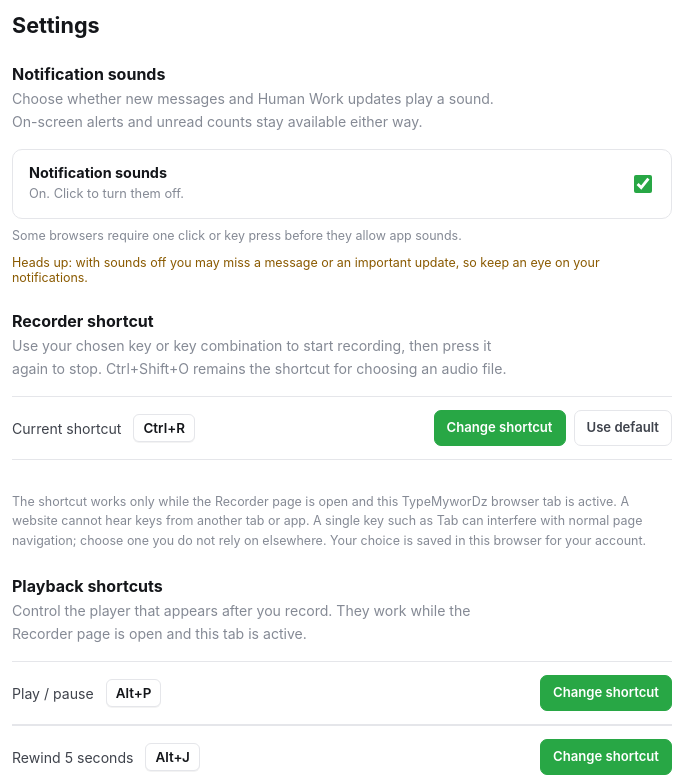
Test: rejects a reserved shortcut and allows capture to be cancelled
Click the button "Change shortcut" in the row of "Ctrl+R".
click(500, 428)  # box [434,410,566,446]
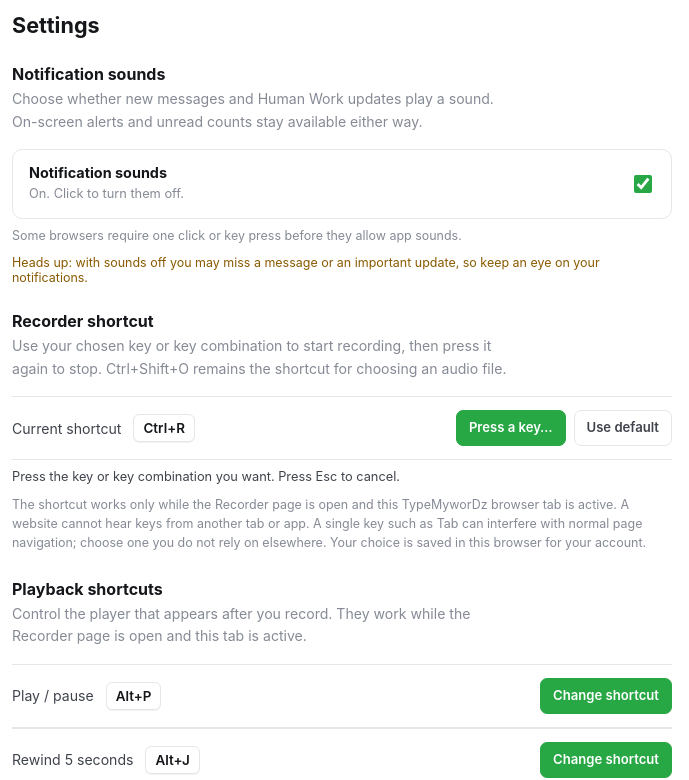
Press o
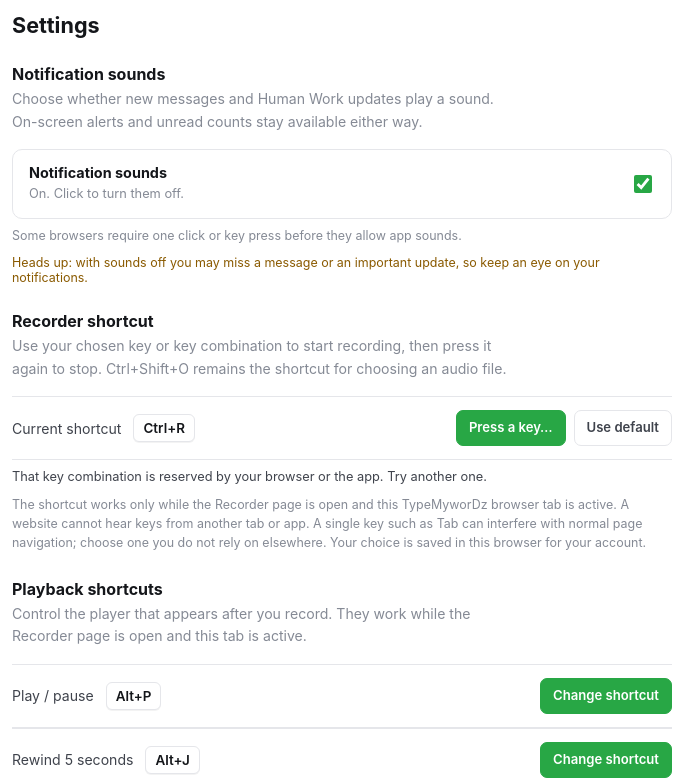
Expected: the message shows "reserved by your browser or the app", [12,469,487,484]
Press Escape
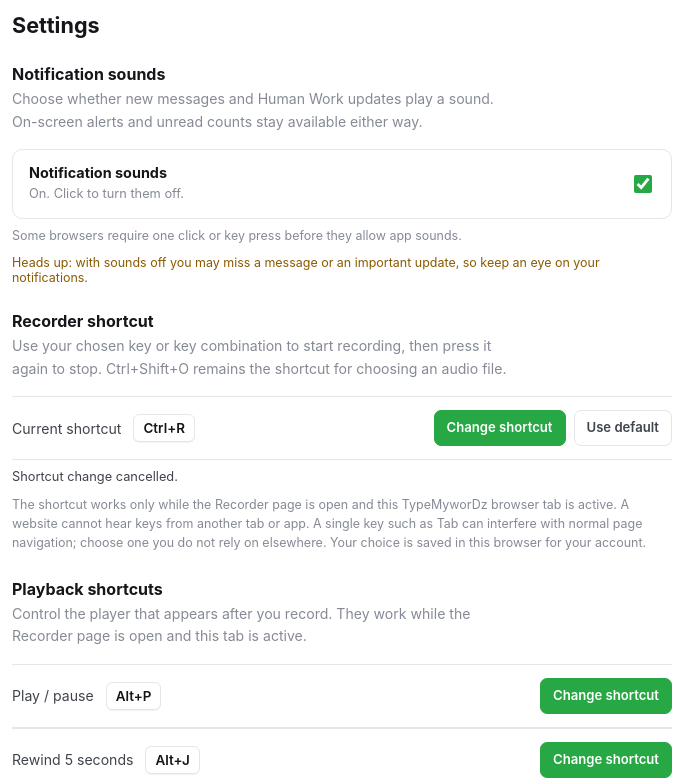
Expected: the text "Ctrl+R" is shown, [134,414,195,442]
Expected: the button "Change shortcut" in the row of "Ctrl+R" is shown, [434,410,566,446]
